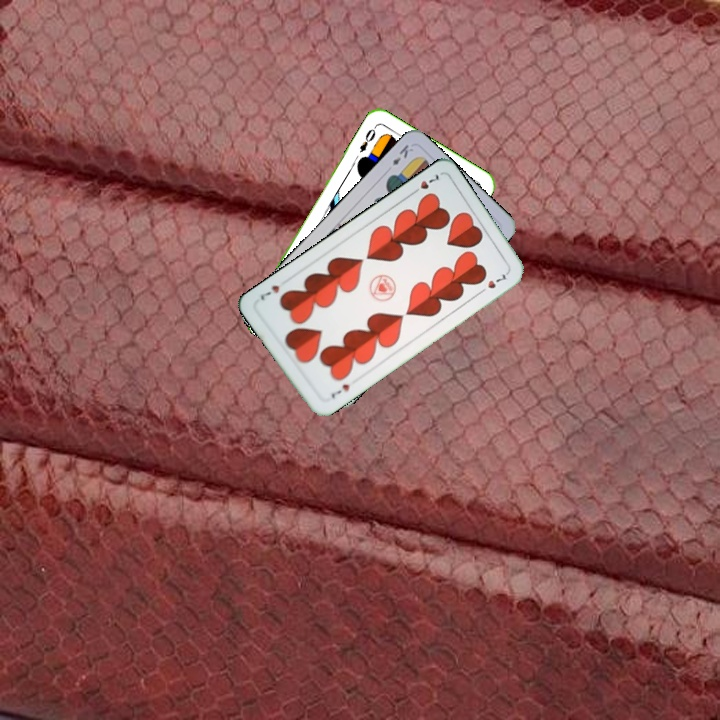EK: (388, 140, 416, 168)
EO: (355, 121, 379, 155)
H7: (407, 170, 442, 197), (327, 380, 353, 401)
